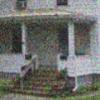stairs: (12, 63, 68, 98)
